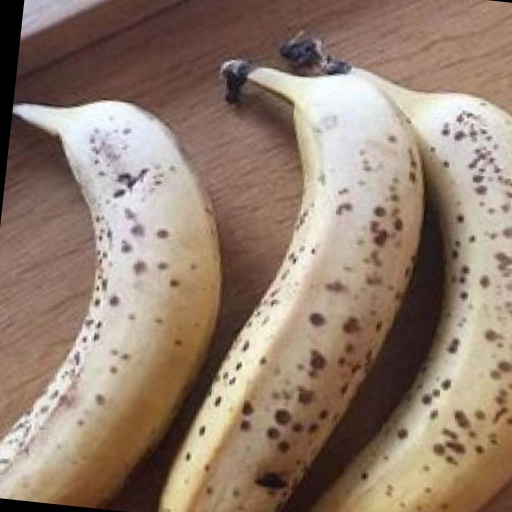fruit: (159, 62, 422, 512), (298, 69, 512, 512), (0, 101, 219, 507)
